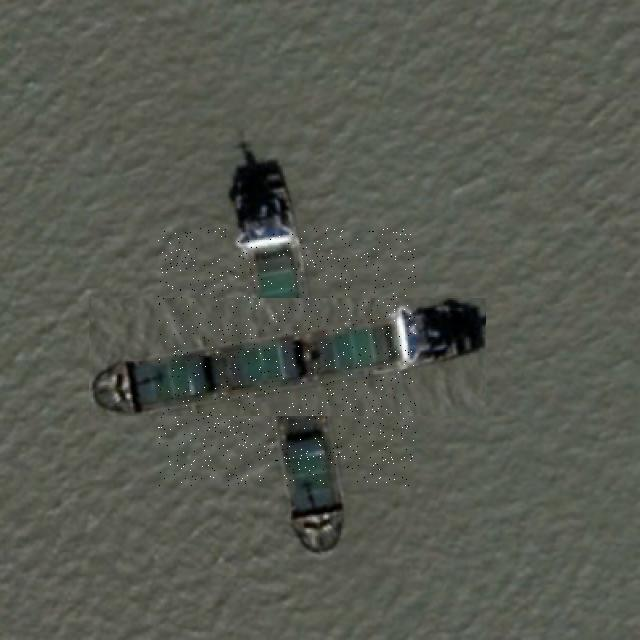boat: (158, 228, 416, 486)
